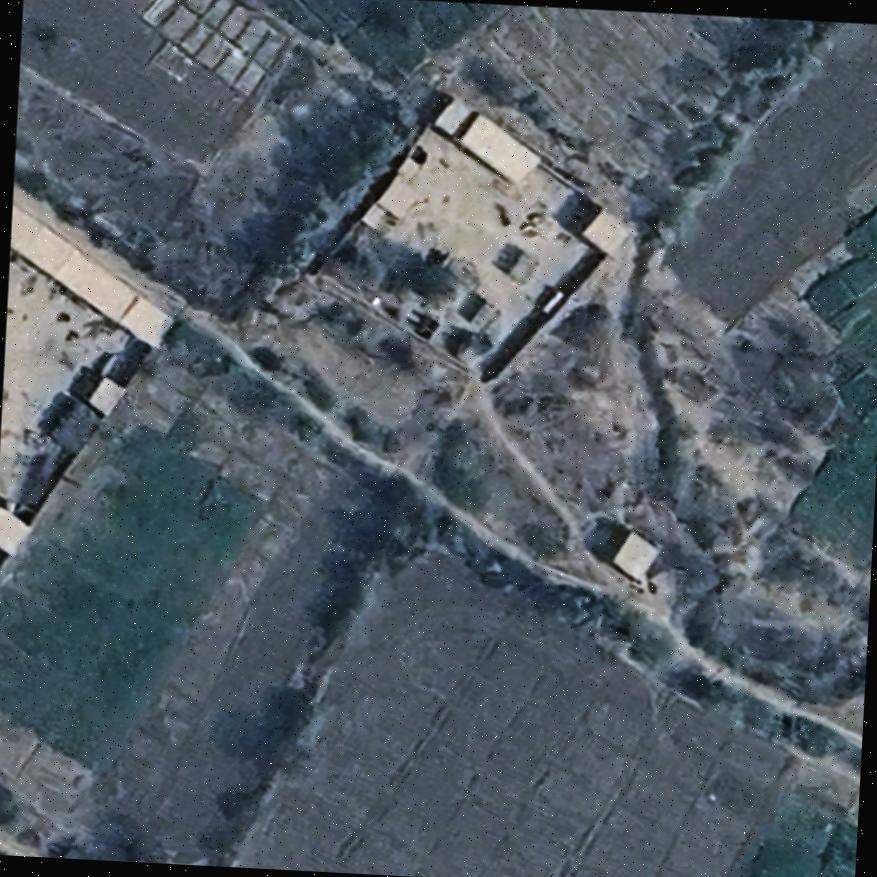Solarpanel: (503, 244, 544, 287), (467, 297, 502, 333)
